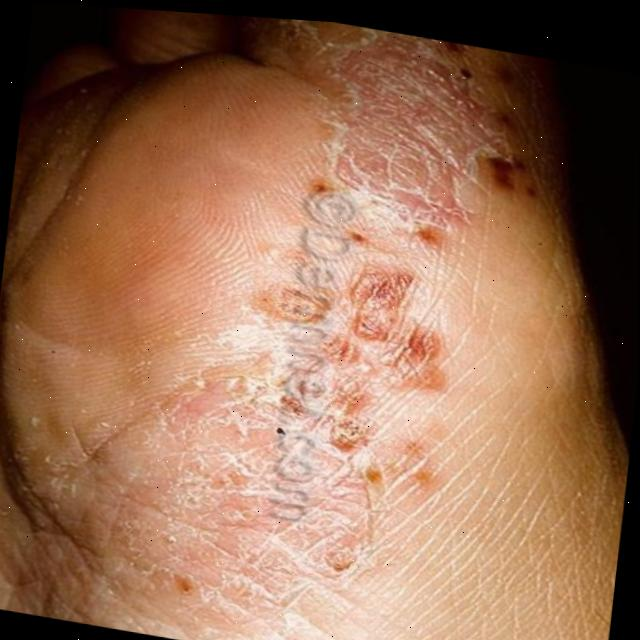Eczema: (85, 6, 518, 640)
